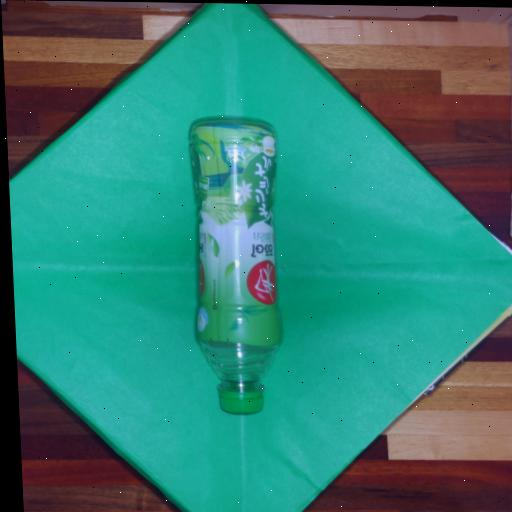bottle: (190, 120, 281, 413)
